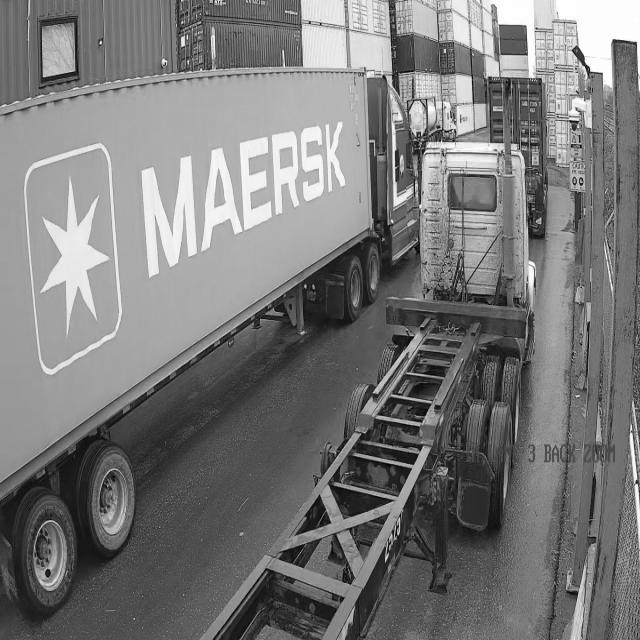container_company_logo: (135, 113, 350, 296)
truck_with_container: (0, 68, 419, 614), (508, 78, 548, 236), (490, 80, 502, 143)
truck_without_container: (201, 108, 536, 639)
